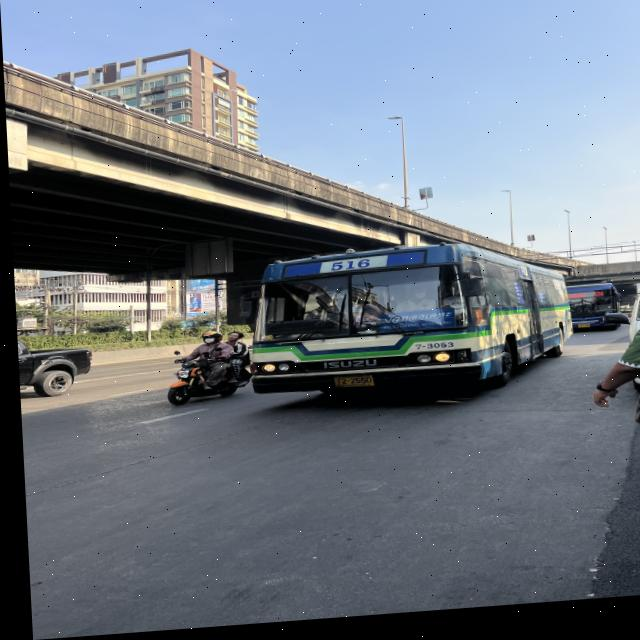BMTA-bus: (244, 252, 565, 401)
Bus Line Number: (315, 262, 387, 279), (588, 299, 604, 307)
Bus Side Number: (408, 347, 455, 358)
Destination Sign: (377, 313, 455, 339), (562, 300, 585, 308)
TSB-Bus: (563, 290, 625, 344)
